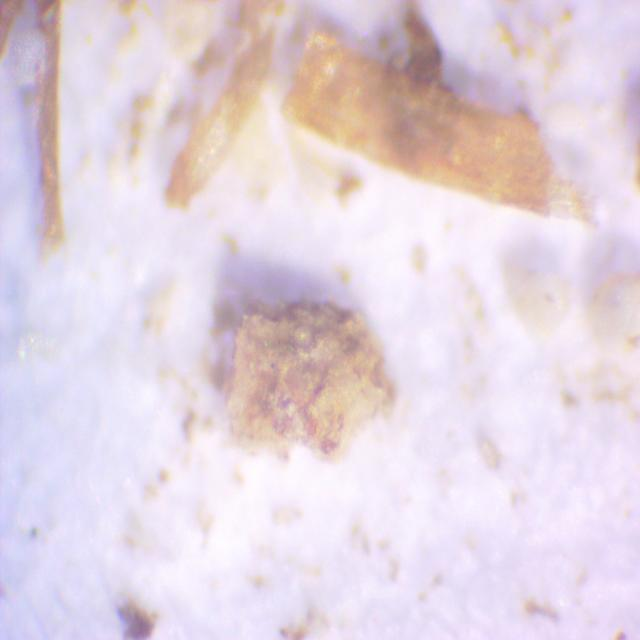microplastic: (224, 298, 399, 462)
